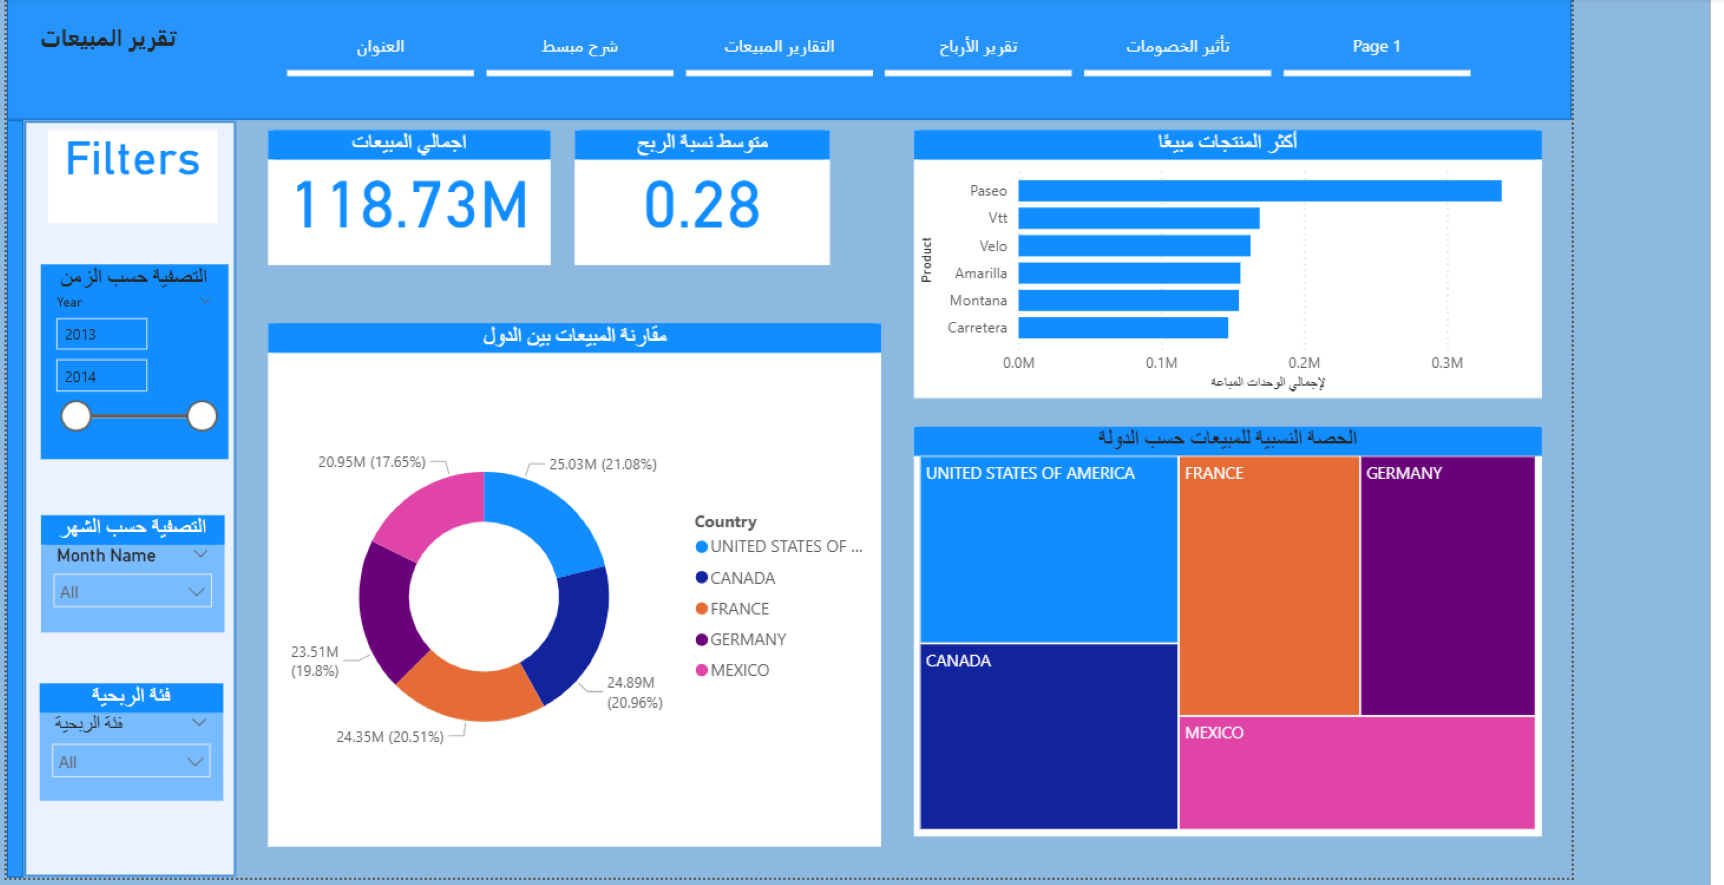

What the dashboard file says about the page in this screenshot:
{"tool":"powerbi","page":{"name":"التقارير المبيعات","canvas":[1280,720],"ordinal":2},"visuals":[{"type":"shape","box":[0,0,1280,100],"z":0},{"type":"shape","box":[0,100,13.8,620],"z":1000},{"type":"shape","box":[13.8,100,175,620],"z":2000},{"type":"textbox","box":[0,15,166.2,35],"z":3000},{"type":"card","title":"اجمالي المبيعات","fields":{"Values":["financials.اجمالي المبيعات"]},"box":[213.8,108.8,231.2,110],"z":4000},{"type":"donutChart","title":"مقارنة المبيعات بين الدول","fields":{"Category":["financials.Country"],"Y":["financials.اجمالي المبيعات"]},"box":[213.8,258.8,501.2,427.5],"z":5000},{"type":"clusteredBarChart","title":"أكثر المنتجات مبيعًا","fields":{"Category":["financials.Product"],"Y":["financials.لإجمالي الوحدات المباعة"]},"box":[742.3,108.8,513.6,218.9],"z":6000},{"type":"slicer","title":"التصفية حسب الزمن","fields":{"Values":["financials.Year"]},"box":[27.5,218.8,152.5,158.8],"z":7000},{"type":"treemap","title":"الحصة النسبية للمبيعات حسب الدولة","fields":{"Values":["Sum(financials. Sales)"],"Group":["financials.Country"]},"box":[742.3,351,513.6,335.1],"z":8000},{"type":"slicer","title":"التصفية حسب الشهر","fields":{"Values":["financials.Month Name"]},"box":[27.5,423.8,150,96.2],"z":9000},{"type":"card","title":"متوسط نسبة الربح","fields":{"Values":["financials.متوسط نسبة الربح"]},"box":[465,108.8,208.8,110],"z":10000},{"type":"slicer","title":"فئة الربحية","fields":{"Values":["financials.فئة الربحية"]},"box":[26.2,561.2,150,96.2],"z":11000},{"type":"textbox","title":"Filters","box":[33.8,108.8,138.8,76.2],"z":12000},{"type":"pageNavigator","box":[228.8,15,972.5,50],"z":13000}]}

Visuals, with their boxes on the page's 1280x720 design canvas (x1, y1, x2, y2). These are canvas units, not pixel positions in the 1724x885 screenshot, which may show the page scaled, cropped or inside an application window:
shape: Rect(0, 0, 1280, 100)
shape: Rect(0, 100, 14, 720)
shape: Rect(14, 100, 189, 720)
textbox: Rect(0, 15, 166, 50)
"اجمالي المبيعات" card: Rect(214, 109, 445, 219)
"مقارنة المبيعات بين الدول" donutChart: Rect(214, 259, 715, 686)
"أكثر المنتجات مبيعًا" clusteredBarChart: Rect(742, 109, 1256, 328)
"التصفية حسب الزمن" slicer: Rect(28, 219, 180, 378)
"الحصة النسبية للمبيعات حسب الدولة" treemap: Rect(742, 351, 1256, 686)
"التصفية حسب الشهر" slicer: Rect(28, 424, 178, 520)
"متوسط نسبة الربح" card: Rect(465, 109, 674, 219)
"فئة الربحية" slicer: Rect(26, 561, 176, 657)
"Filters" textbox: Rect(34, 109, 173, 185)
pageNavigator: Rect(229, 15, 1201, 65)
